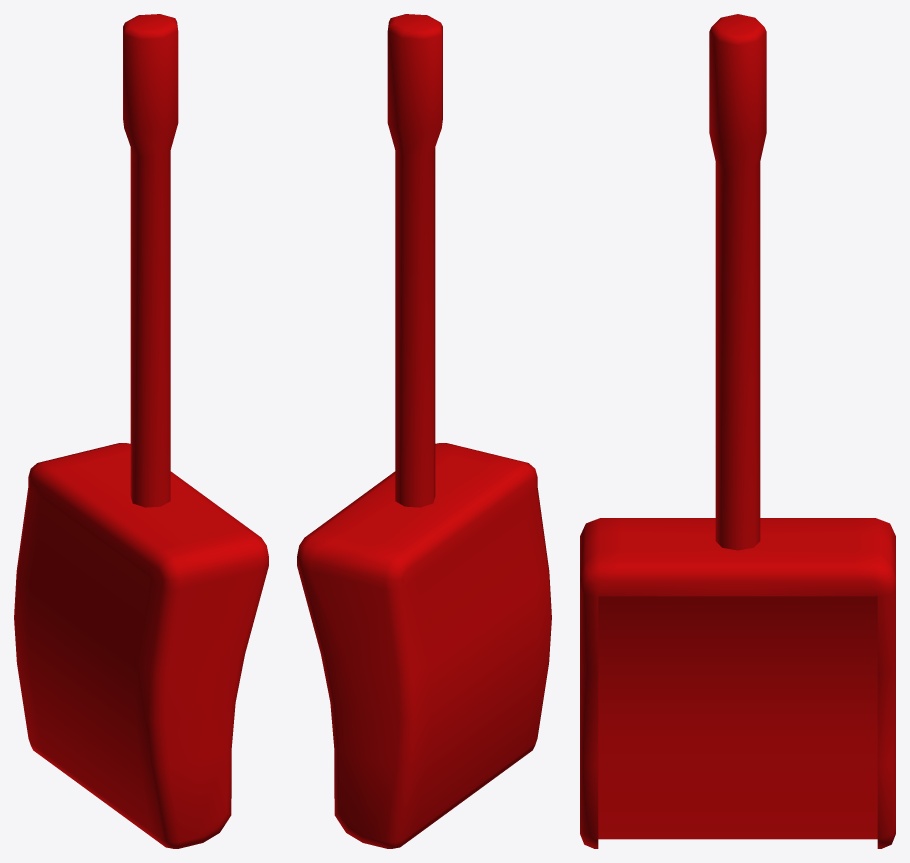
The model's file is CHANZI.fbx.
The picture shows the model from 3 angles, left to right: view 1: azimuth 30°, elevation 25°; view 2: azimuth 150°, elevation 25°; view 3: azimuth 270°, elevation 25°; orthographic projection. The views are drawn at different scales.
Parts seen in each view (by area): view 1: 立方体; view 2: 立方体; view 3: 立方体.
Boxes of the visible parts, box(x1,y1,x2,y2) form: 立方体: box(14, 14, 268, 848); 立方体: box(297, 14, 551, 848); 立方体: box(580, 14, 895, 848).
Bounding box in the file's own units: 94.78 × 580 × 200.
